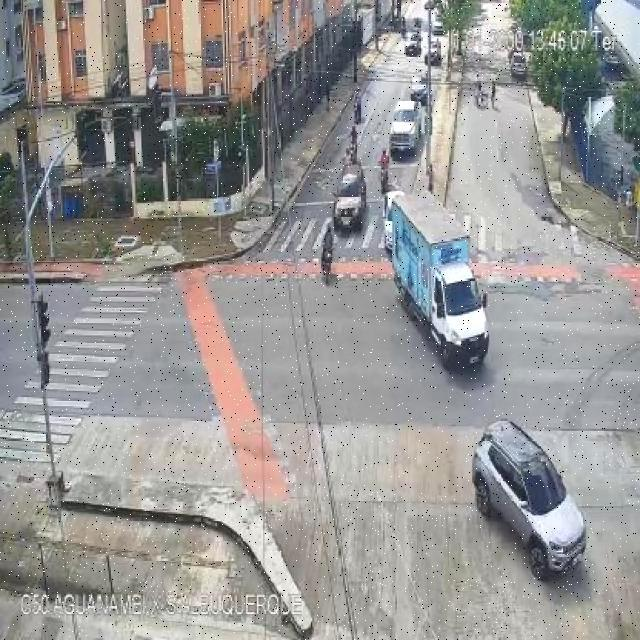Car: (474, 421, 594, 583), (330, 162, 367, 234), (384, 100, 430, 150), (403, 72, 440, 108), (422, 38, 446, 68), (402, 32, 424, 58)
Cycle: (314, 222, 339, 284), (374, 140, 394, 194), (346, 88, 365, 124), (344, 122, 362, 159)
Truck: (372, 174, 490, 382)
